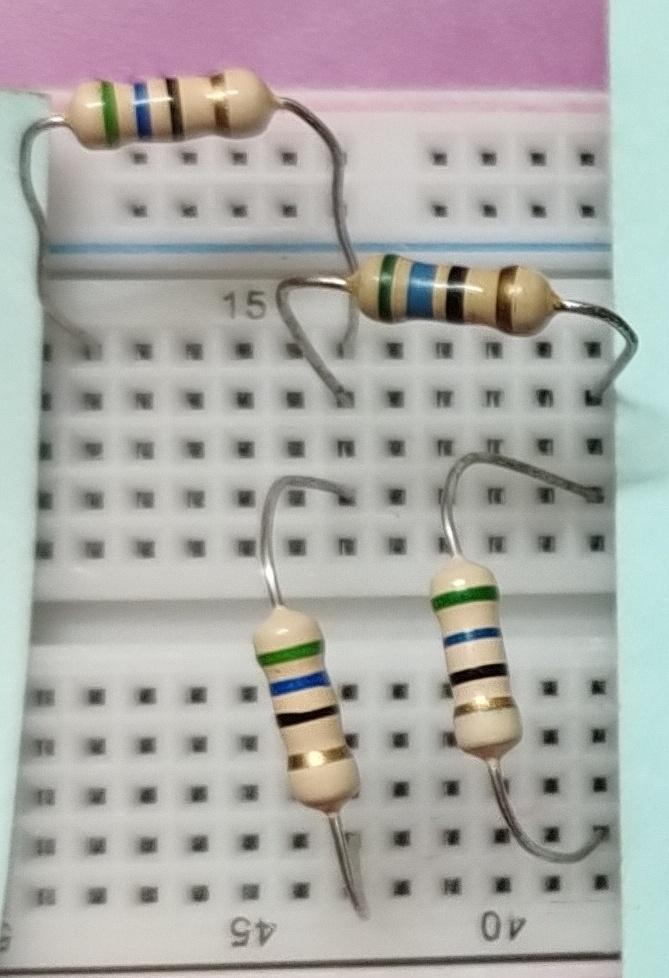resistor: (232, 602, 382, 818), (417, 540, 538, 775), (340, 237, 563, 357), (60, 67, 292, 148)
